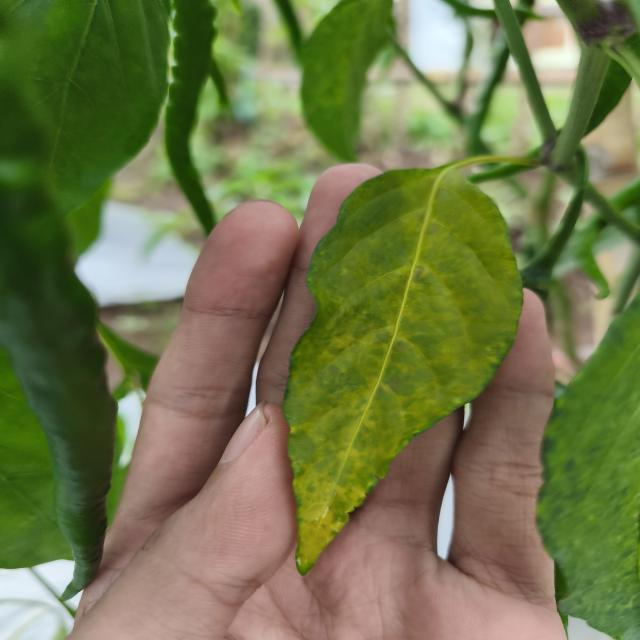Virus Kuning: (282, 160, 524, 576)
